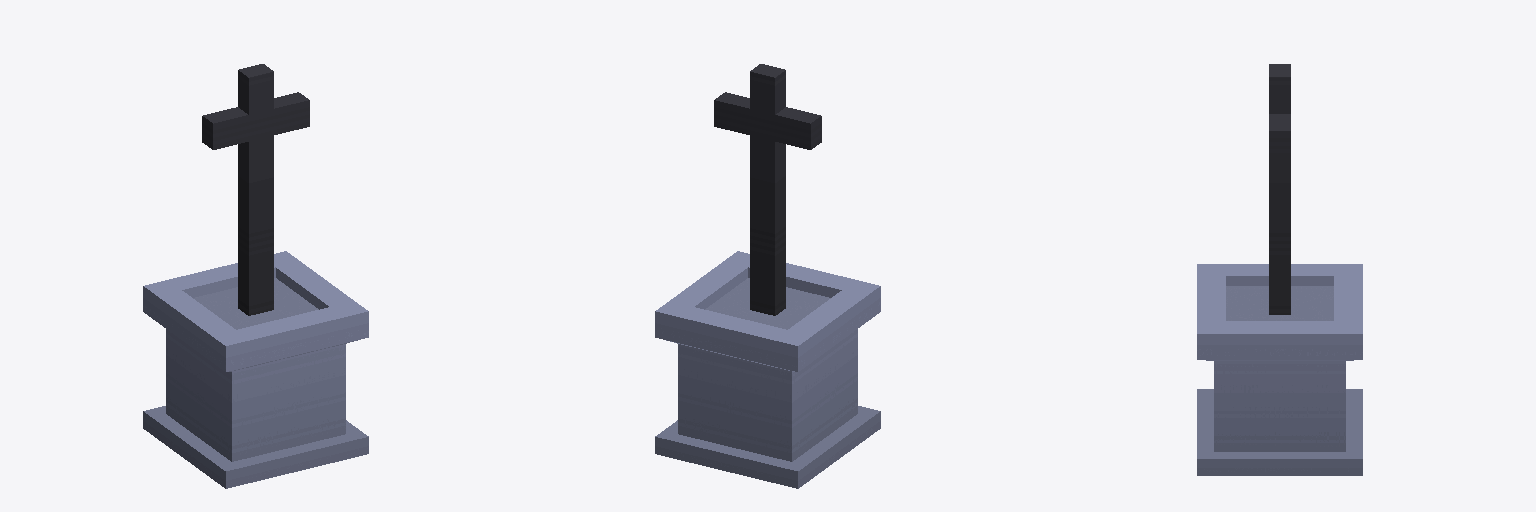
The picture shows the model from 3 angles: view 1: azimuth 30°, elevation 25°; view 2: azimuth 150°, elevation 25°; view 3: azimuth 270°, elevation 25°; orthographic projection.
Parts seen in each view (by area): view 1: Cross_Wood_1; view 2: Cross_Wood_1; view 3: Cross_Wood_1.
Boxes of the visible parts, x1=… form: Cross_Wood_1: x1=143, y1=64, x2=368, y2=488; Cross_Wood_1: x1=655, y1=64, x2=880, y2=488; Cross_Wood_1: x1=1197, y1=64, x2=1362, y2=475.
Bounding box in the file's own units: 0.43 × 1.06 × 0.43.
1 materials, 1 textured.